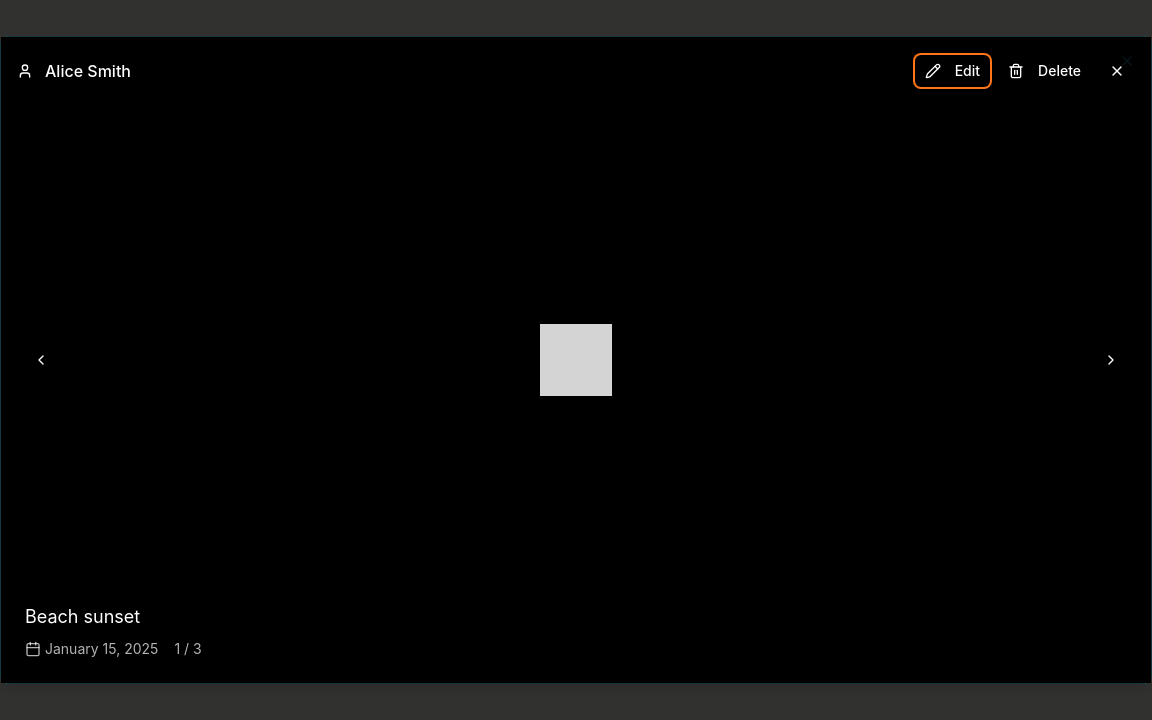
Test: PhotoLightbox › Edit Mode › should allow editing caption and date for own photos
The width and height of the screenshot is (1152, 720).
Note: Click edit button
What coordinates should you click on to do the following:
click the button labelled "Edit"
I would click on:
 (952, 71)
Its box is [915,55,990,87].
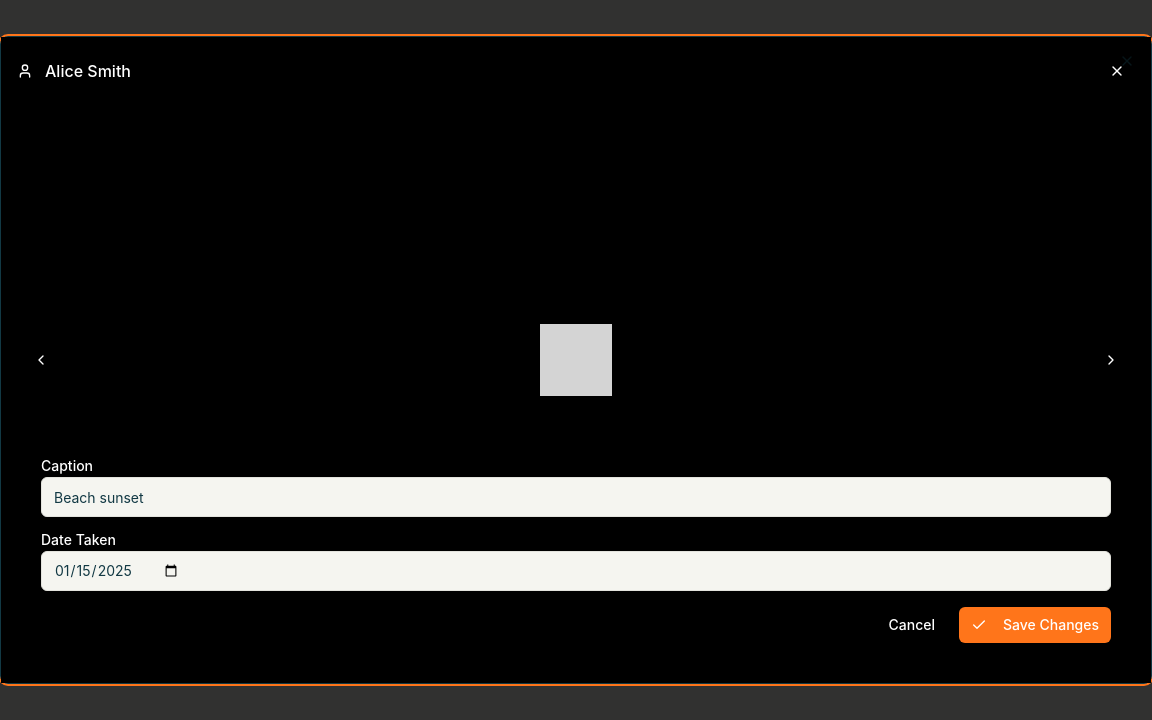
Result: the field showing "Beach sunset" is shown at [41,477,1111,517]
Result: the date field showing "2025-01-15" is shown at [41,551,1111,591]
